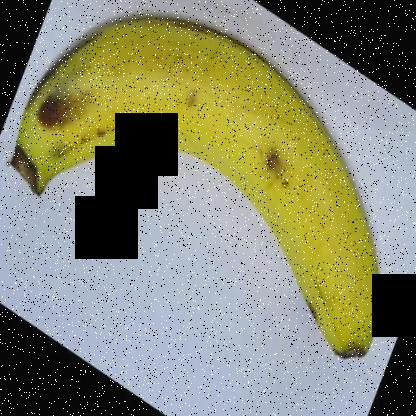freshripe: (3, 12, 387, 378)
